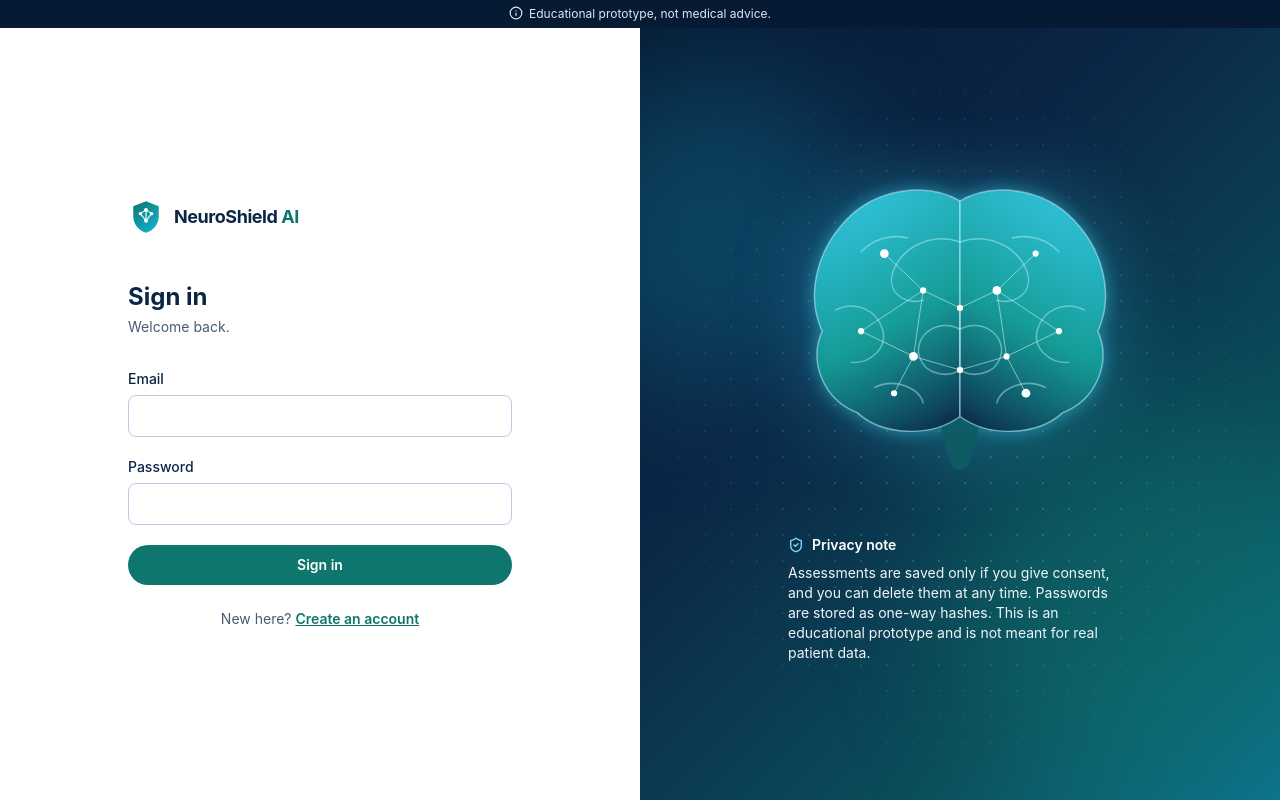
login form › shows the server message on failed sign-in
The image size is (1280, 800).
Type "a@example.com" into the field labelled "Email". click: (320, 416)
box: x1=128 y1=395 x2=512 y2=437
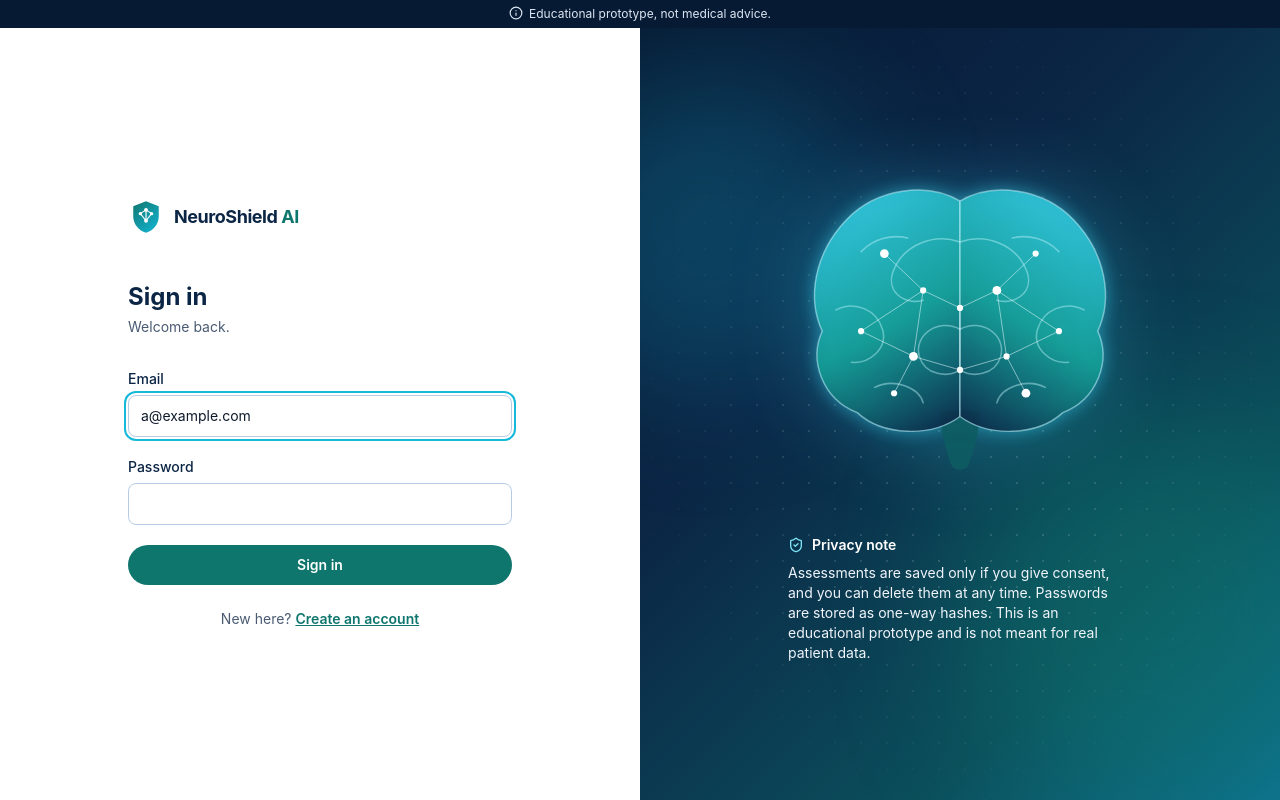
Type "whatever-pass" into the password field labelled "Password". click: (320, 504)
box: x1=128 y1=483 x2=512 y2=525
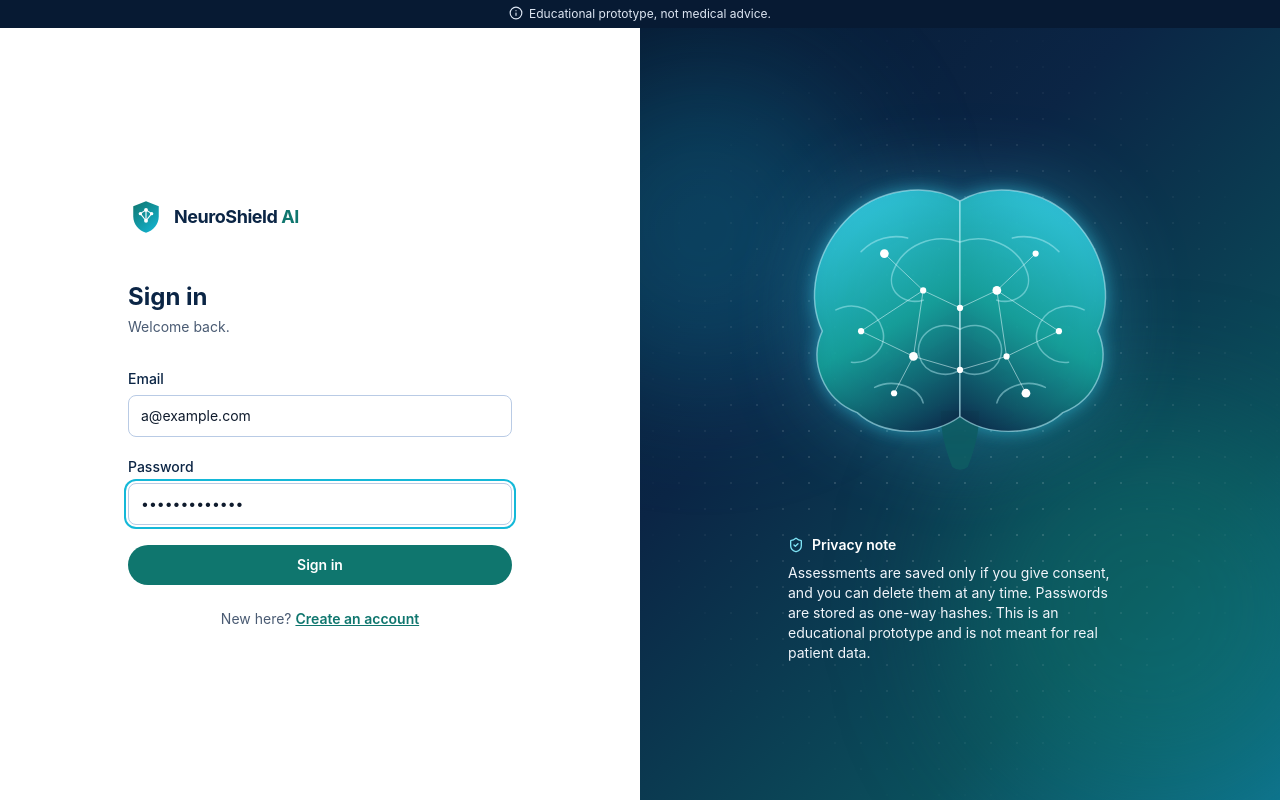
Click the button "Sign in". click: (320, 565)
box: x1=128 y1=545 x2=512 y2=585
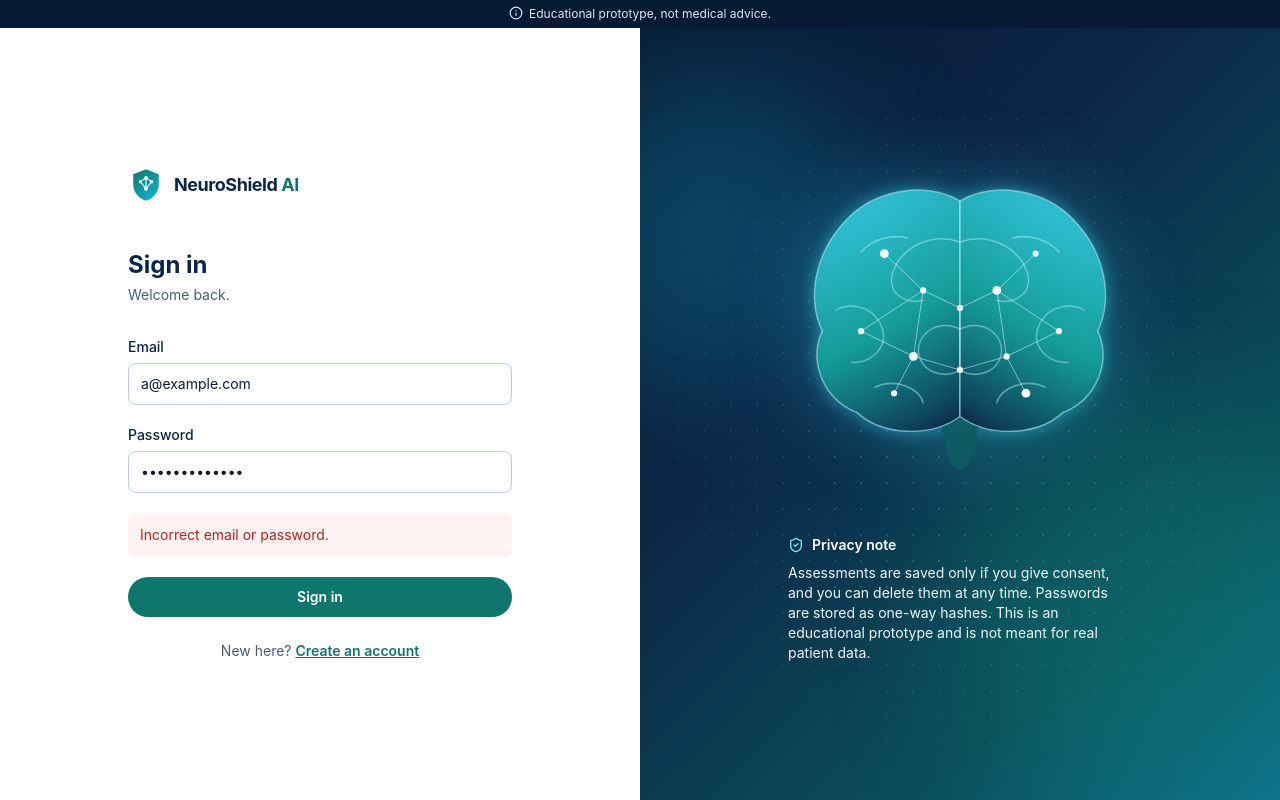
Check: the text "Incorrect email or password." is shown, box x1=128 y1=513 x2=512 y2=557
